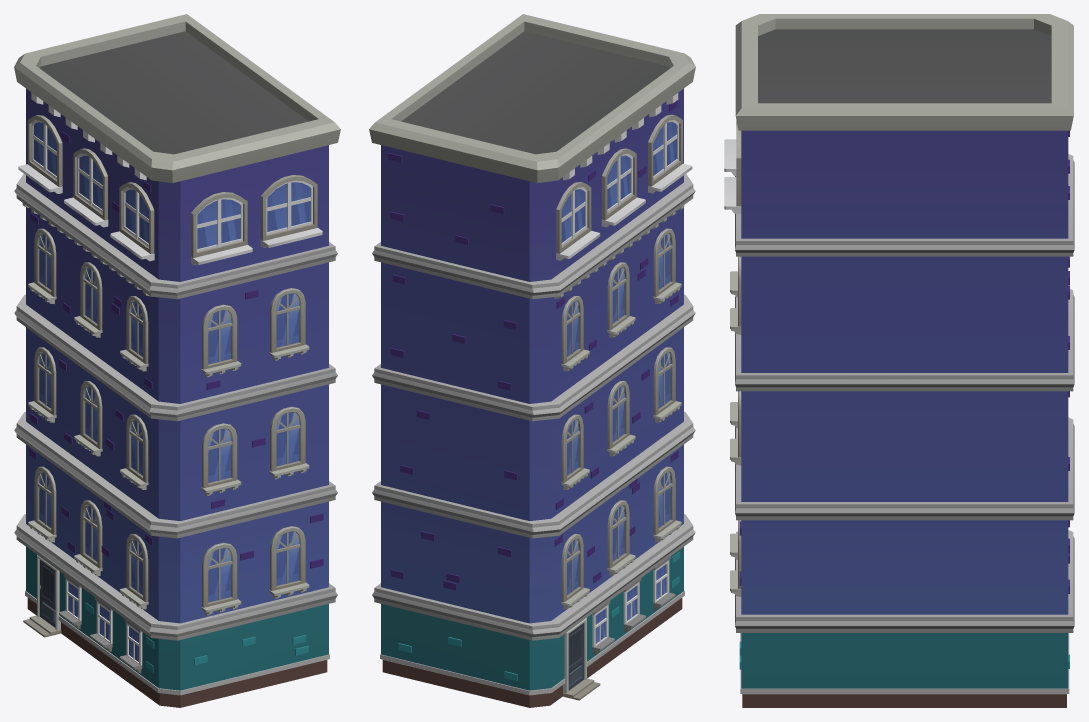
The model's file is Building_18_1_C.glb.
3 views of the same model, side by side, from view 1: azimuth 30°, elevation 25°; view 2: azimuth 150°, elevation 25°; view 3: azimuth 270°, elevation 25° (orthographic). The views are drawn at different scales.
Parts seen in each view (by area): view 1: Building_18_1_C; view 2: Building_18_1_C; view 3: Building_18_1_C.
Boxes of the visible parts, box(x1,y1,x2,y2) form: Building_18_1_C: box(14, 14, 340, 707); Building_18_1_C: box(369, 14, 695, 707); Building_18_1_C: box(724, 14, 1074, 707).
Bounding box in the file's own units: 7.19 × 20.14 × 10.59.
3 materials, 3 textured.
